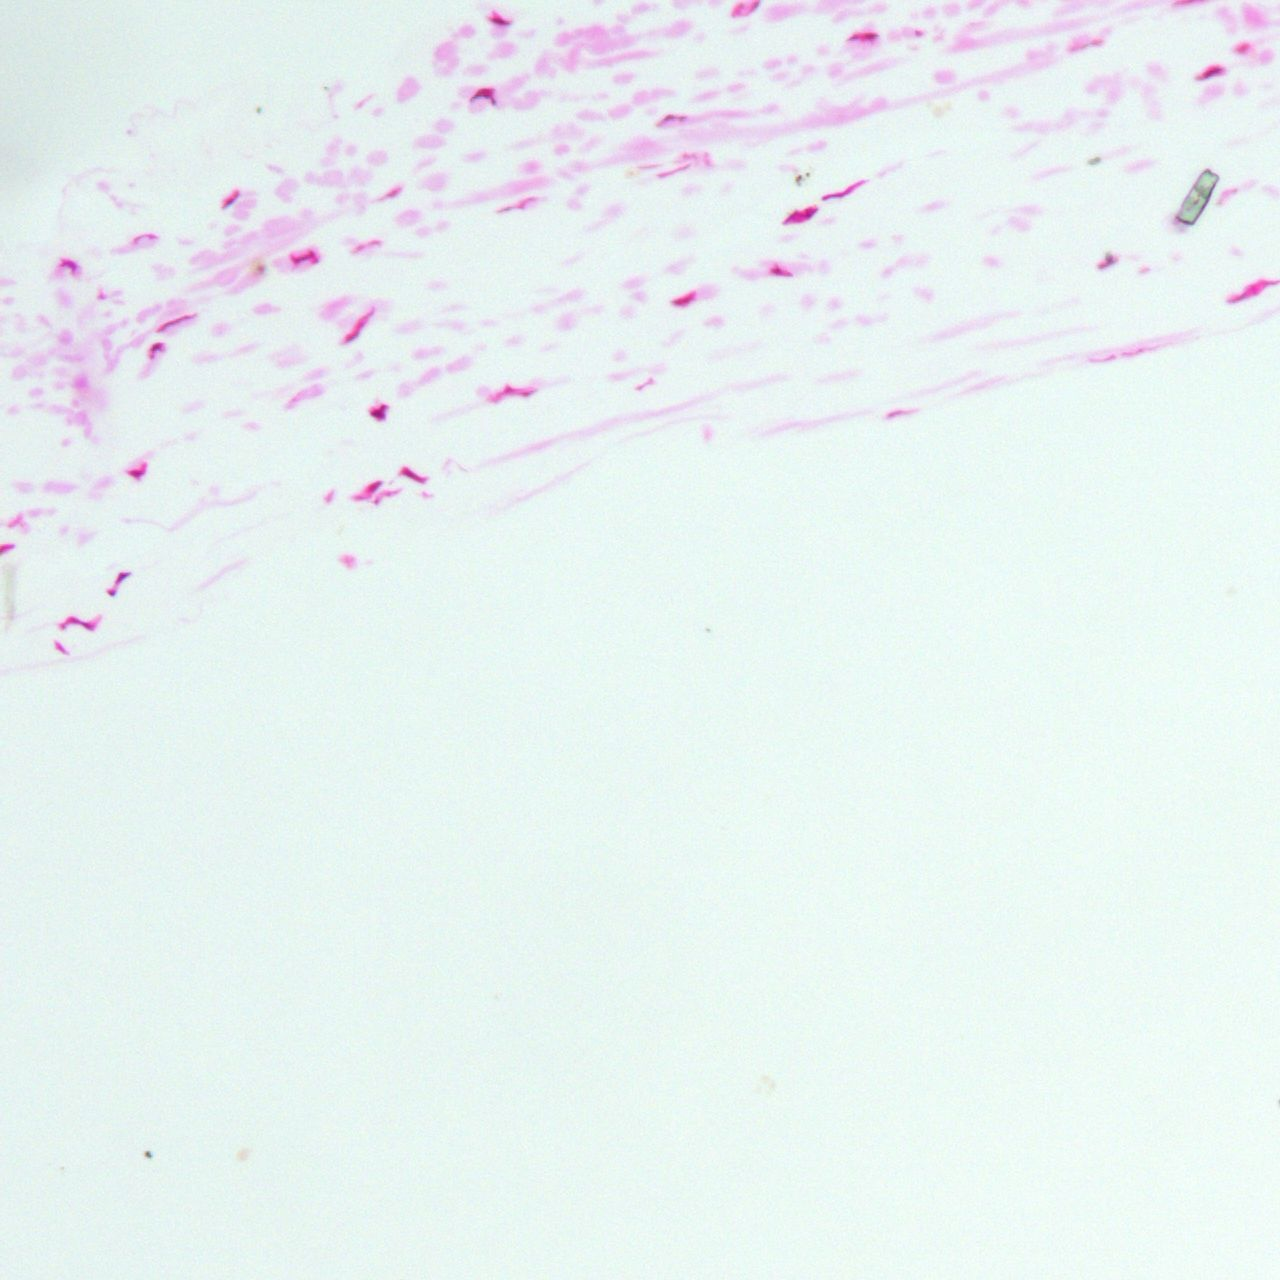dust: (1175, 166, 1220, 229), (1104, 252, 1119, 270), (234, 1146, 251, 1160), (253, 260, 266, 275), (794, 172, 804, 188), (1085, 156, 1101, 166), (141, 1148, 154, 1159), (254, 107, 263, 113), (322, 84, 329, 90), (704, 626, 710, 632), (804, 171, 809, 178)
nucleus-FG: (821, 178, 870, 204), (155, 309, 198, 334), (782, 202, 821, 229), (341, 312, 372, 346), (497, 195, 537, 216), (1193, 62, 1227, 83), (489, 384, 535, 400), (1069, 35, 1105, 53), (658, 162, 692, 181), (350, 237, 383, 254), (399, 465, 425, 486), (654, 110, 688, 127), (57, 617, 98, 629), (670, 291, 696, 309), (377, 186, 403, 204), (368, 402, 390, 422), (290, 248, 316, 265), (52, 639, 70, 659), (60, 257, 81, 274), (222, 191, 240, 209), (468, 88, 496, 98), (113, 568, 131, 584), (849, 32, 879, 41), (635, 377, 655, 392), (148, 340, 165, 355), (134, 231, 156, 243), (730, 0, 744, 18), (366, 478, 382, 492), (747, 0, 761, 16), (770, 268, 794, 278), (488, 16, 510, 26), (128, 469, 145, 481), (0, 543, 14, 554), (1235, 43, 1250, 52), (354, 495, 367, 501), (107, 588, 116, 595), (915, 28, 922, 38), (311, 258, 318, 265), (373, 499, 379, 505)
